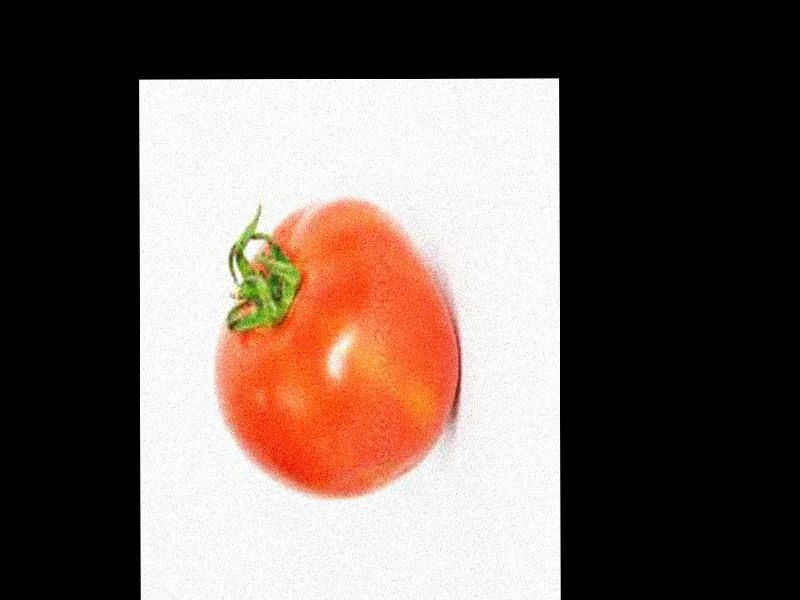Tomato: (210, 198, 459, 498)
